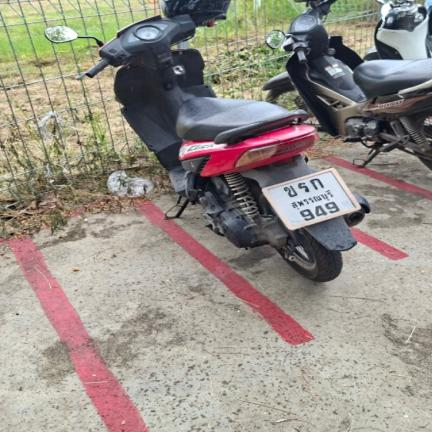4: (310, 204, 329, 218)
9: (298, 208, 318, 222), (323, 200, 342, 214)
A01: (306, 176, 327, 191)
A02: (280, 184, 300, 199)
A35: (293, 180, 313, 195)
SPB: (288, 189, 338, 211)
